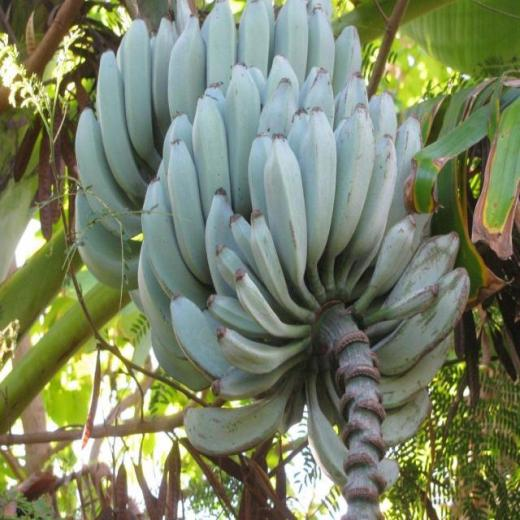Banana: (97, 12, 448, 457)
